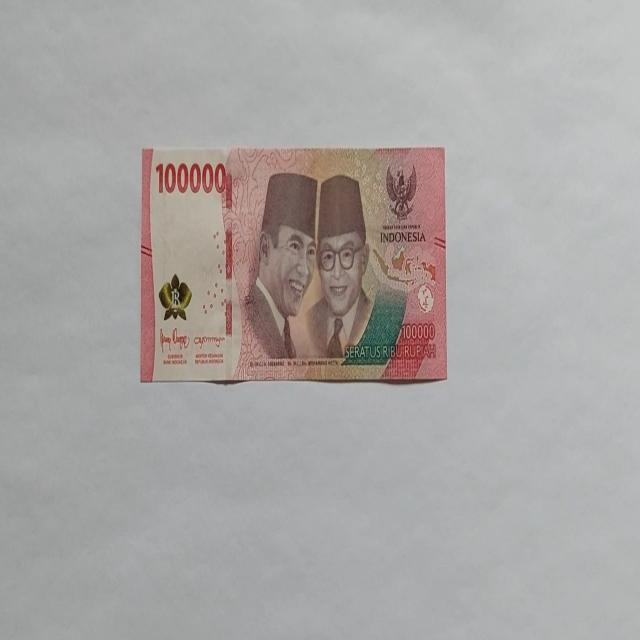seratus ribu rupiah: (140, 144, 448, 385)
